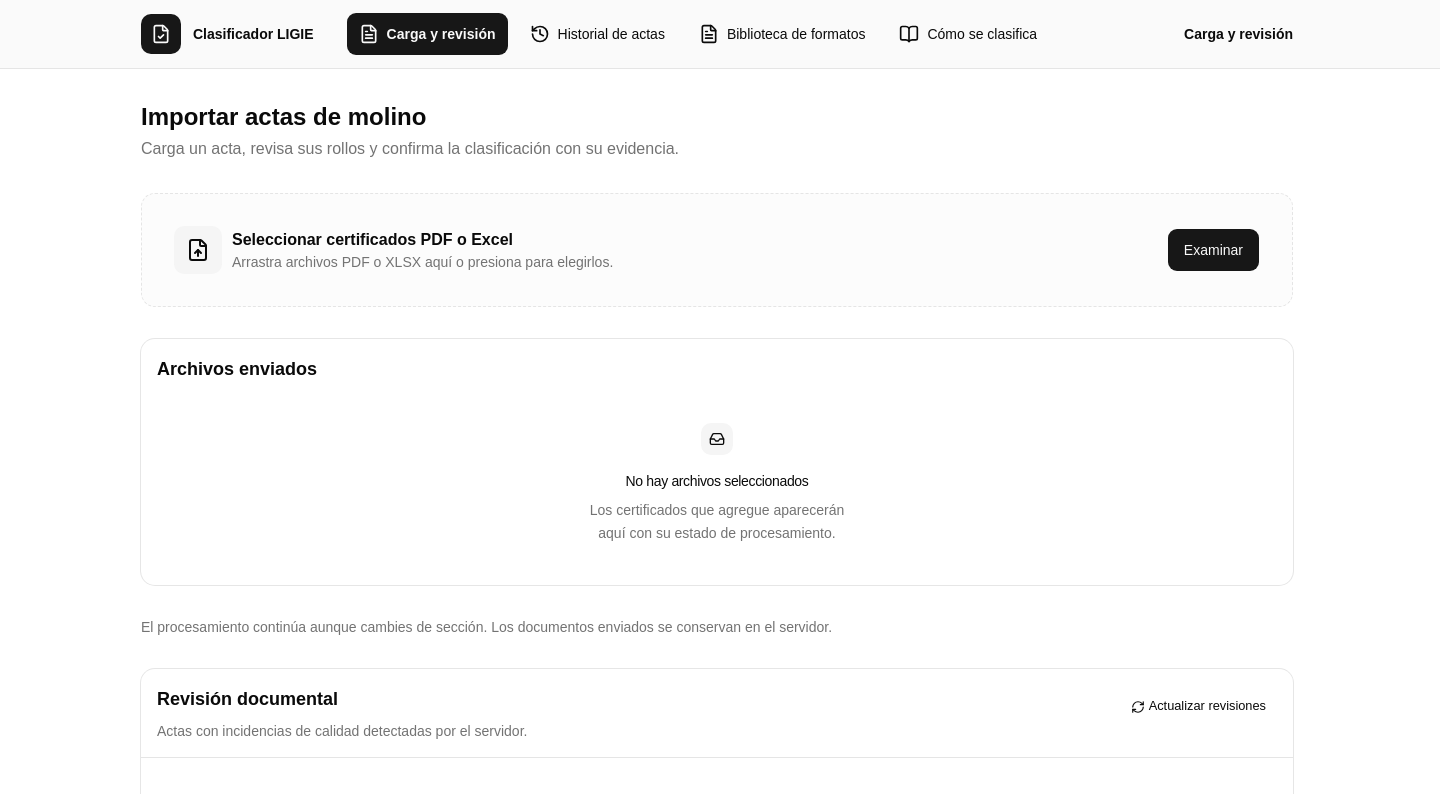
it: Exportación del acta completa › muestra el error del worker y permite generar de nuevo
Click the button "Historial de actas".
click(597, 34)  # box [516,12,678,56]
(page scrolled)
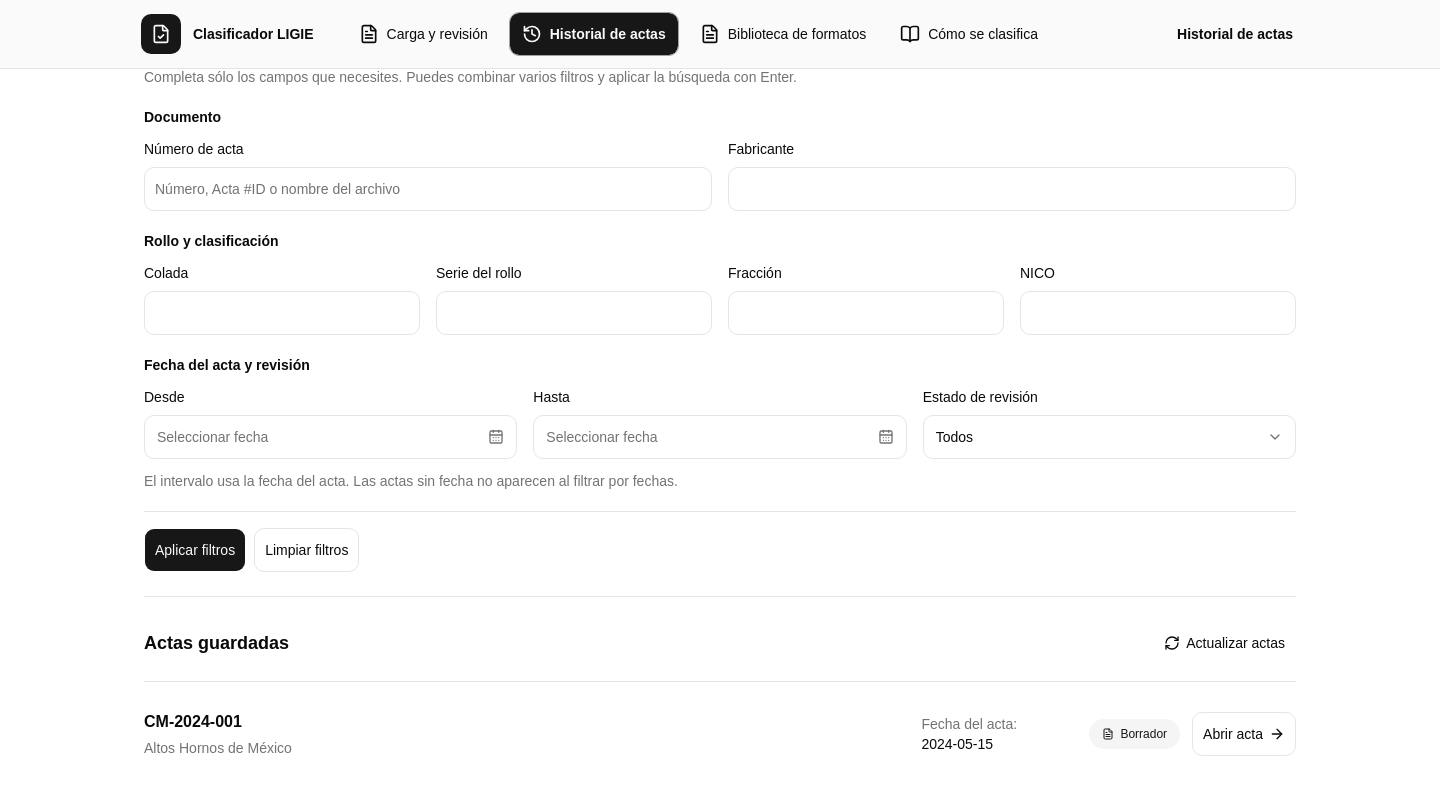
Click the button "Abrir acta".
click(1244, 734)  # box [1192,712,1296,756]
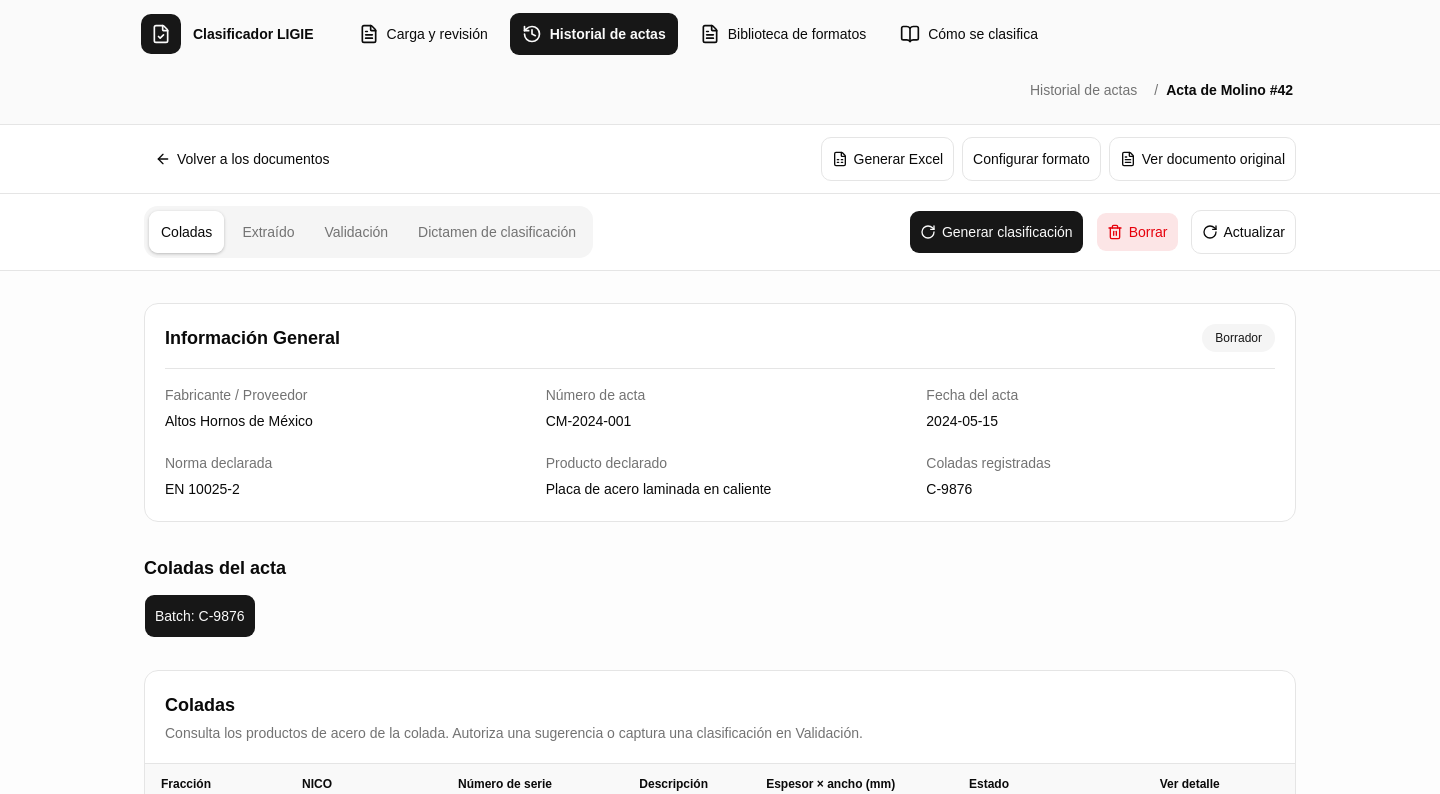
Check: the button "Generar Excel" is enabled
Click the button "Generar Excel".
click(887, 159)  # box [821,137,954,181]
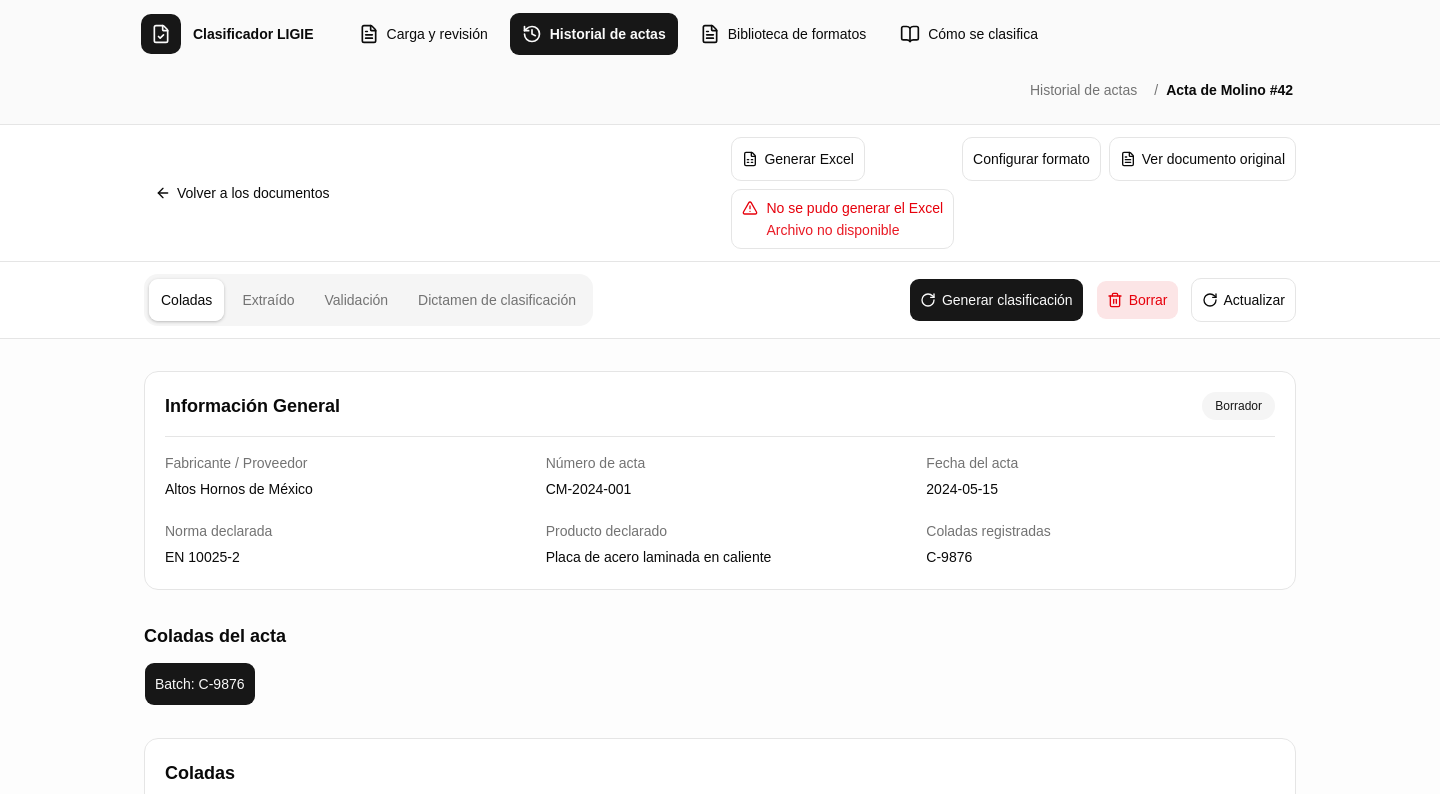
Check: the text "Archivo no disponible" is shown, box [766,220,900,240]
Click the button "Generar Excel".
click(798, 159)  # box [731,137,865,181]
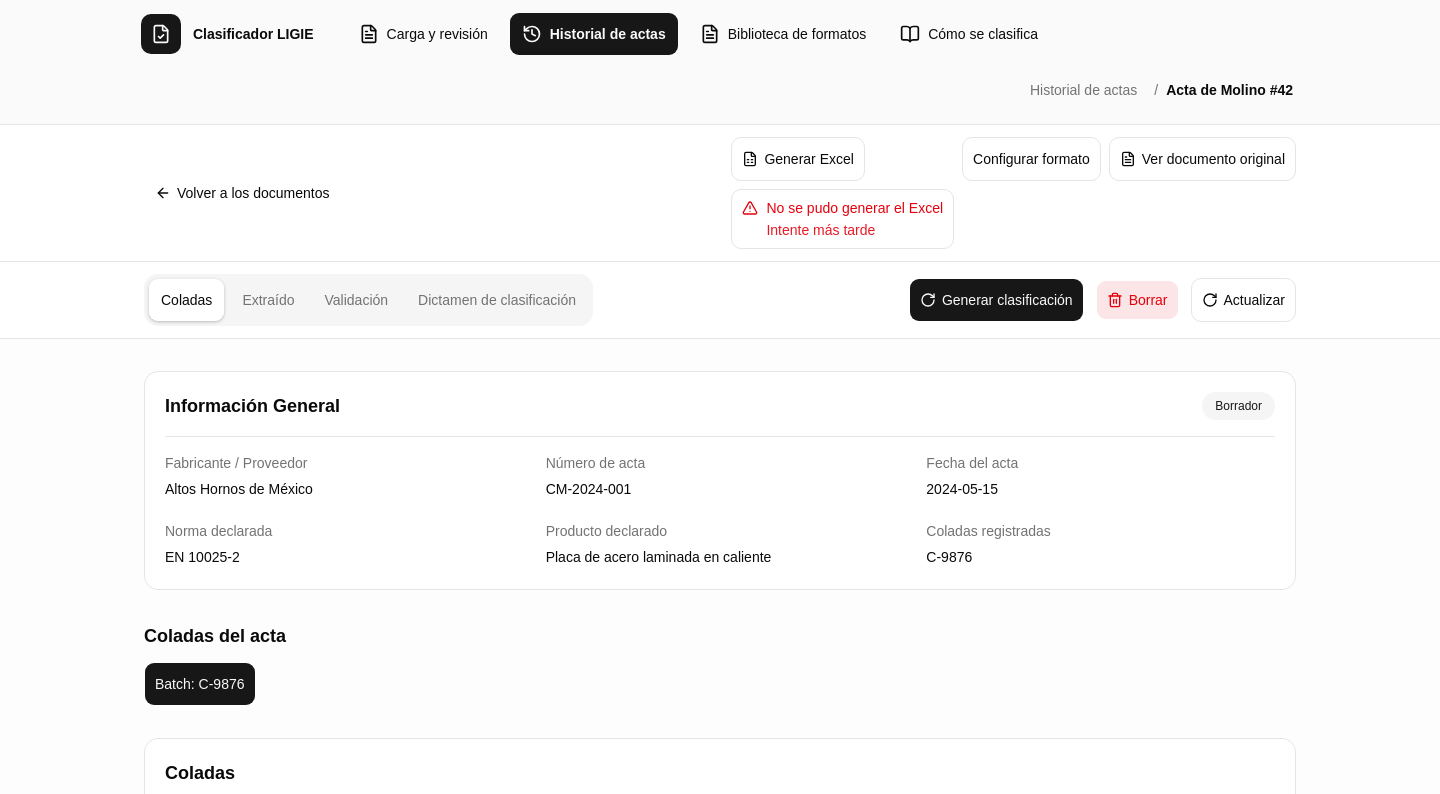
Check: the text "Intente más tarde" is shown, box [766,220,875,240]
